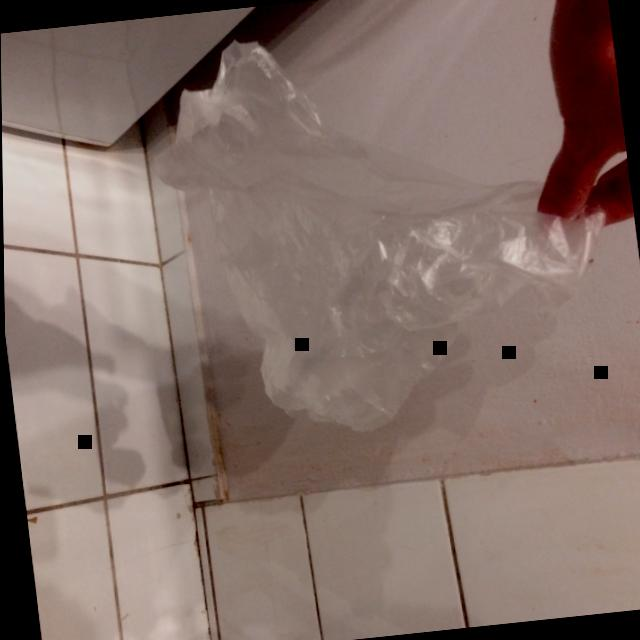Plastic film: (153, 38, 604, 430)
